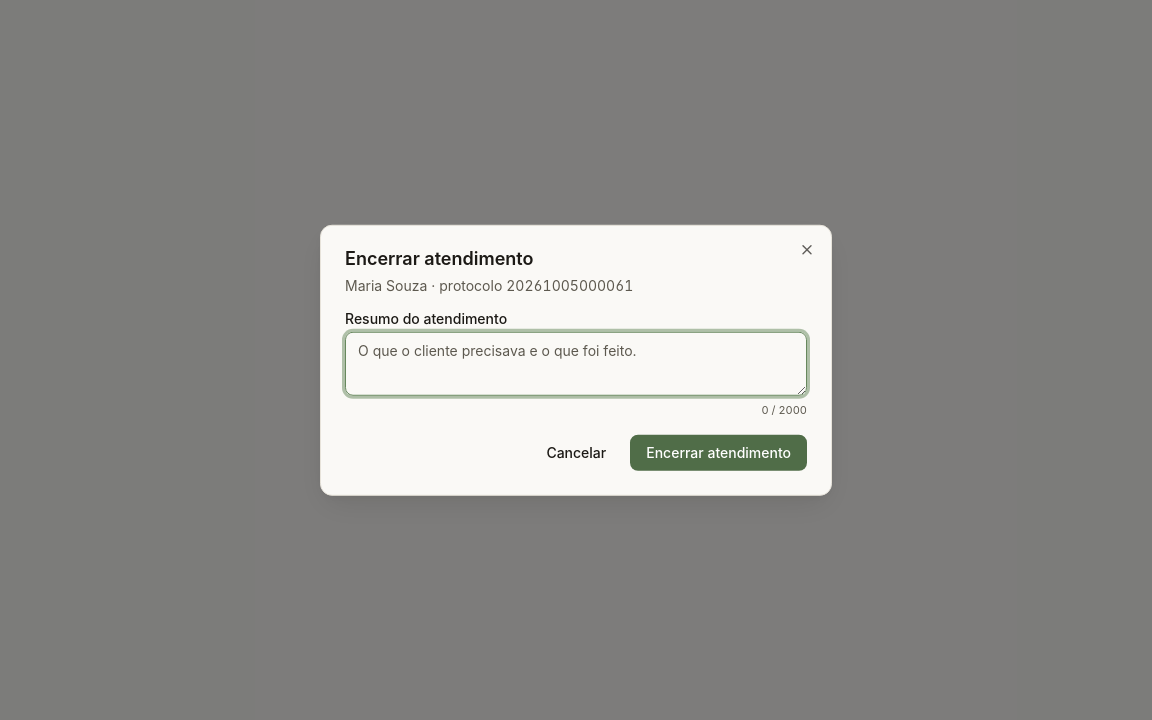
Test: o texto digitado não se perde por acidente › recusa de ASSUNTO do servidor aparece mesmo sem lista de assuntos, e a lista é recarregada
Click the button with test id "encerramento-confirmar": (719, 452) [630,434,807,470]
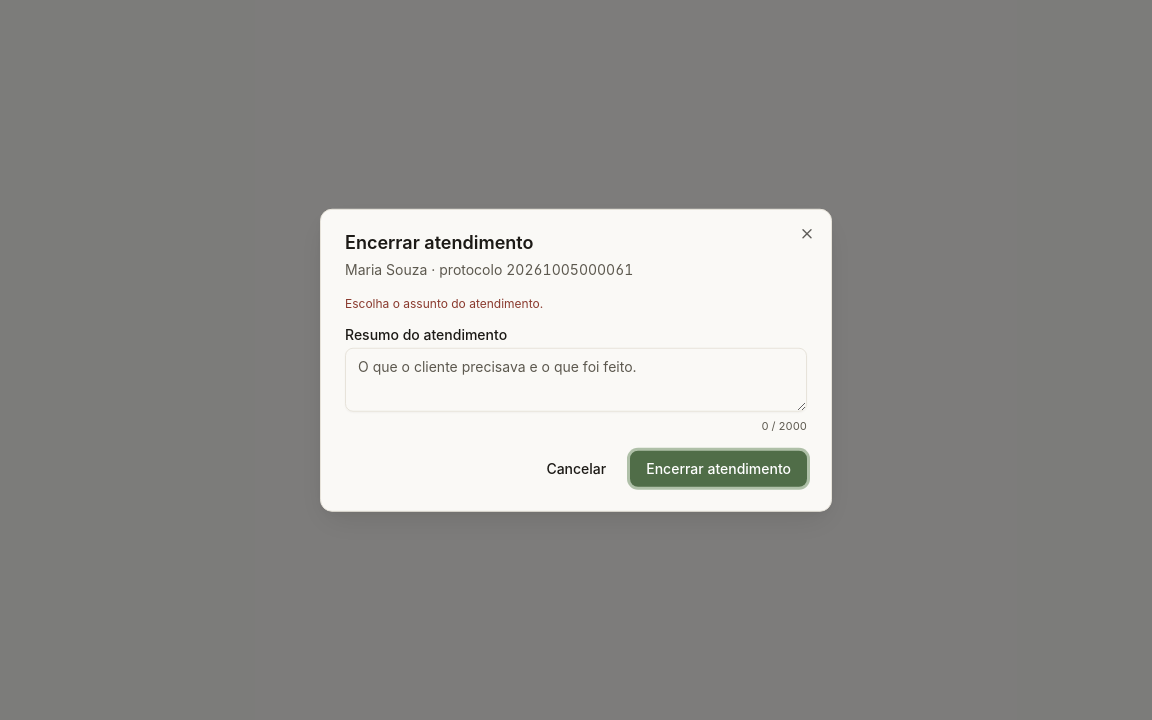
Check: the message with test id "encerramento-erro-assunto" reads "Escolha o assunto do atendimento.", box [345,296,543,311]
